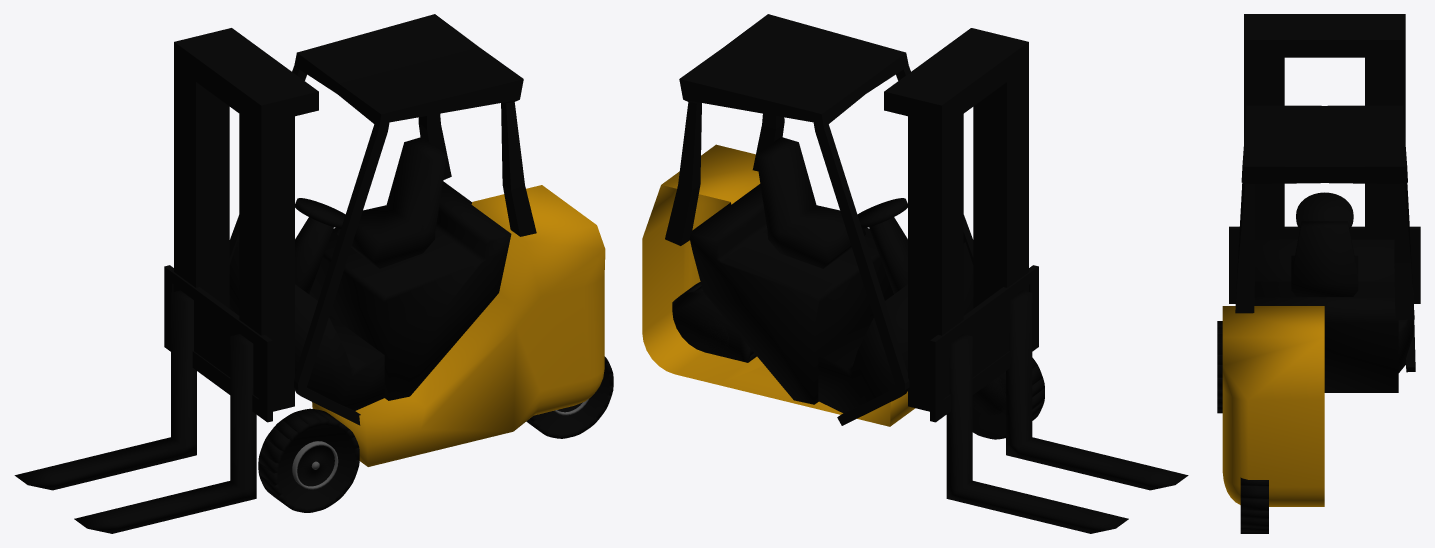
File: montacarga.glb
3 renders of one model, left to right at view 1: azimuth 30°, elevation 25°; view 2: azimuth 150°, elevation 25°; view 3: azimuth 270°, elevation 25°, orthographic. The views are drawn at different scales.
Visible parts, largest first — view 1: Base_naranja, Base cuchillas, Base_marco, Marco, Cuchillas, Ruedas, Silla_volante; view 2: Base cuchillas, Base_marco, Marco, Cuchillas, Base_naranja, Silla_volante, Ruedas; view 3: Base_naranja, Marco, Base cuchillas, Base_marco, Silla_volante, Ruedas, Cuchillas.
Part boxes in pixels (bbox=[...]): Base_naranja: bbox=[312, 185, 605, 466]; Base cuchillas: bbox=[174, 28, 318, 411]; Base_marco: bbox=[229, 181, 511, 410]; Marco: bbox=[229, 14, 536, 425]; Cuchillas: bbox=[14, 265, 272, 533]; Ruedas: bbox=[258, 356, 613, 512]; Silla_volante: bbox=[295, 137, 446, 293]; Base cuchillas: bbox=[884, 28, 1028, 411]; Base_marco: bbox=[689, 184, 973, 413]; Marco: bbox=[665, 14, 973, 425]; Cuchillas: bbox=[930, 265, 1188, 533]; Base_naranja: bbox=[642, 144, 915, 426]; Silla_volante: bbox=[756, 137, 907, 293]; Ruedas: bbox=[672, 282, 1044, 439]; Base_naranja: bbox=[1222, 306, 1324, 506]; Marco: bbox=[1235, 105, 1415, 372]; Base cuchillas: bbox=[1244, 14, 1405, 239]; Base_marco: bbox=[1236, 239, 1413, 392]; Silla_volante: bbox=[1291, 192, 1358, 296]; Ruedas: bbox=[1217, 321, 1268, 533]; Cuchillas: bbox=[1229, 226, 1420, 303].
Size of the model in its own units: 3.97 by 2.97 by 1.45.
